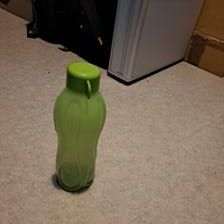bottle: (49, 61, 105, 190)
